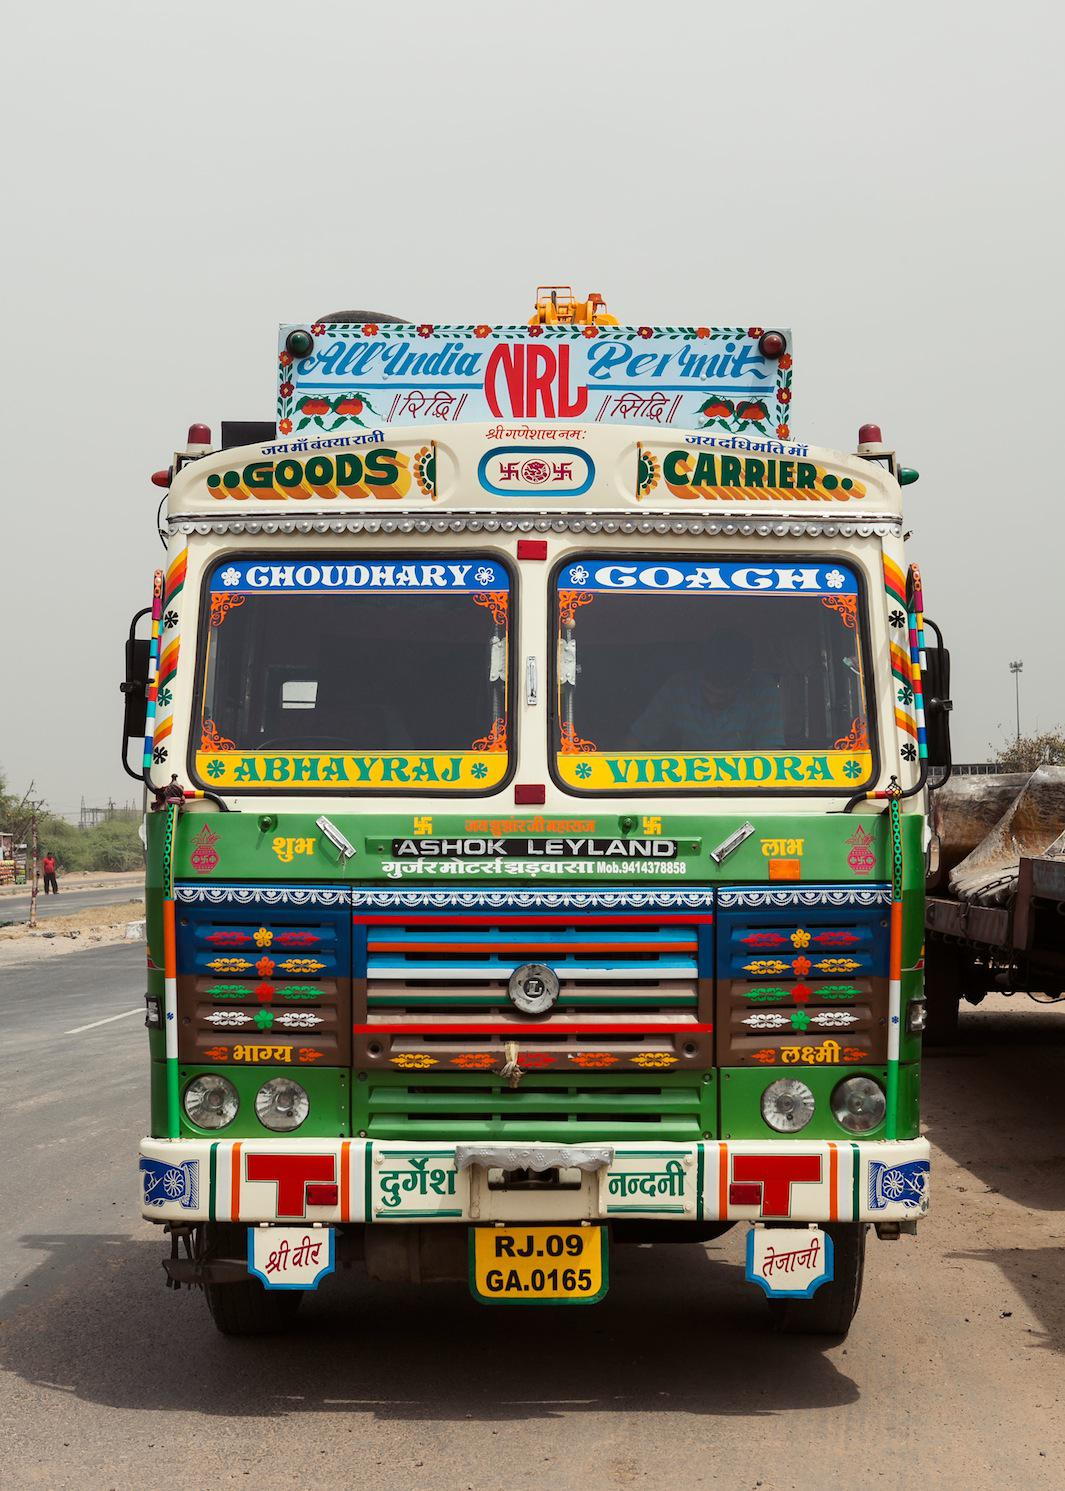truck: (126, 318, 936, 1356)
